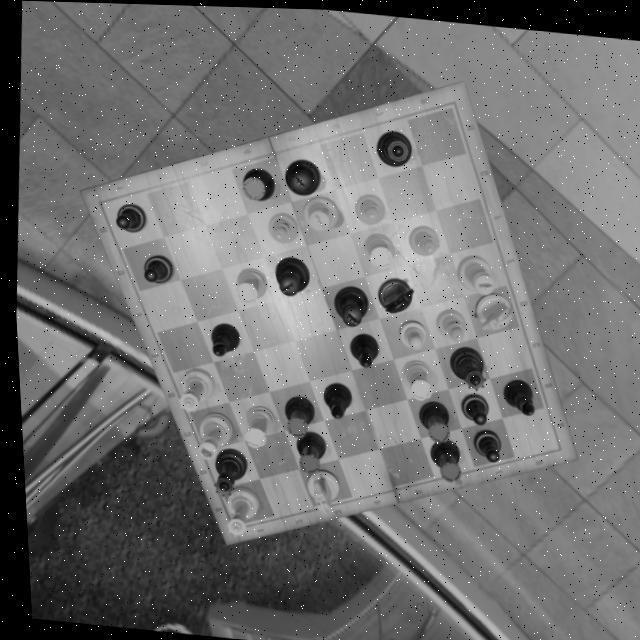chess-table-corners: (534, 427, 566, 462), (218, 503, 245, 538), (86, 188, 114, 220), (440, 90, 468, 116)
